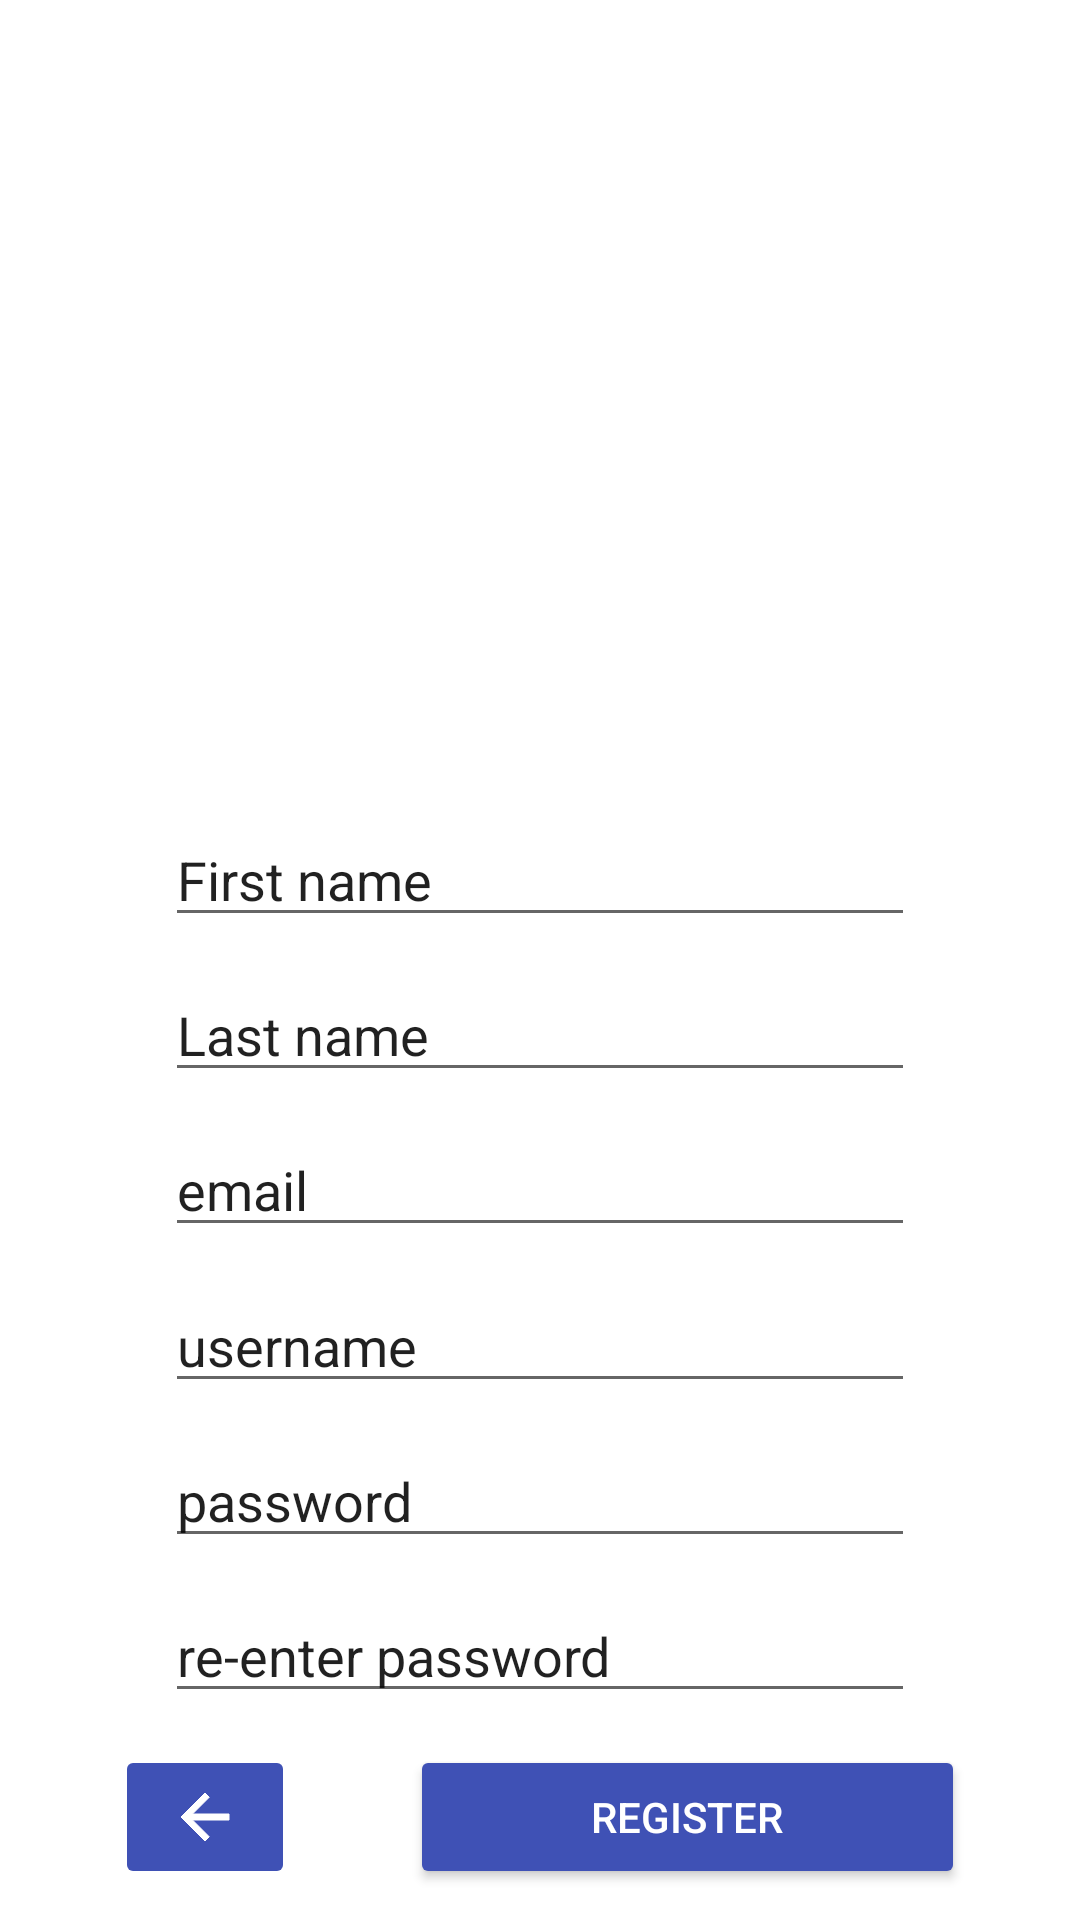

Icon click points for this 1080w x 1920h phone screenshot, format [x,y]:
arrow back: [205,1817]
